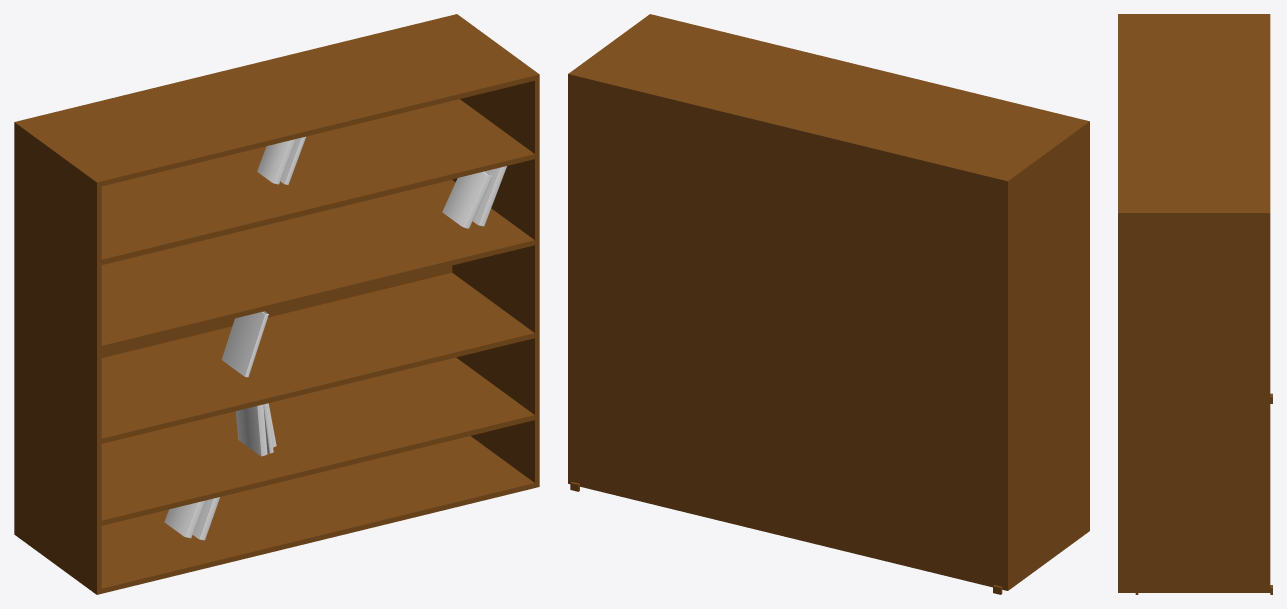
3 views of the same model, side by side, from view 1: azimuth 30°, elevation 25°; view 2: azimuth 150°, elevation 25°; view 3: azimuth 270°, elevation 25° (orthographic). The views are drawn at different scales.
Visible parts, largest first — view 1: Line01, Plane02, Box14, Box24, Box17, Box16, Box22, Box23; view 2: Plane02, Line01; view 3: Line01.
Part boxes in pixels (bbox=[...]): Line01: bbox=[14, 14, 539, 594]; Plane02: bbox=[101, 179, 452, 357]; Box14: bbox=[221, 311, 268, 377]; Box24: bbox=[442, 171, 492, 228]; Box17: bbox=[235, 404, 267, 456]; Box16: bbox=[257, 139, 295, 184]; Box22: bbox=[164, 500, 205, 538]; Box23: bbox=[473, 166, 506, 226]; Plane02: bbox=[570, 78, 1004, 587]; Line01: bbox=[568, 14, 1089, 590]; Line01: bbox=[1118, 14, 1270, 592].
Size of the model in its own units: 71.65 by 64.42 by 23.57.
